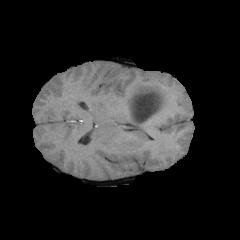glioma: (116, 80, 173, 134)
